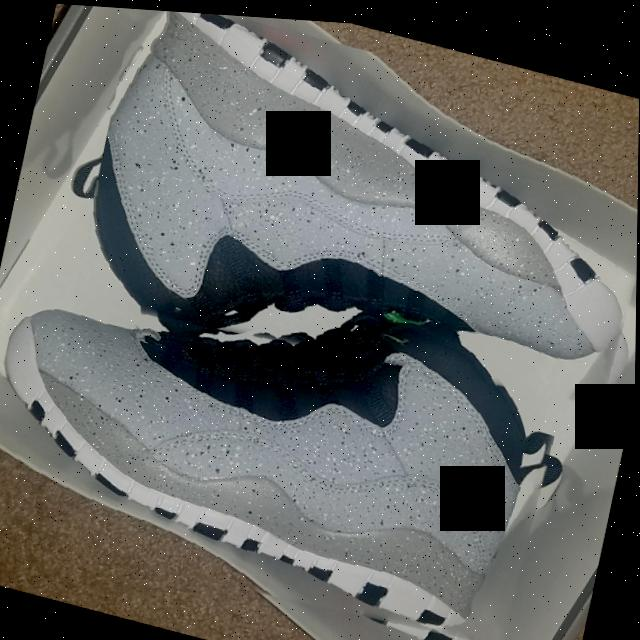shoe: (71, 4, 640, 435), (0, 230, 572, 640)
